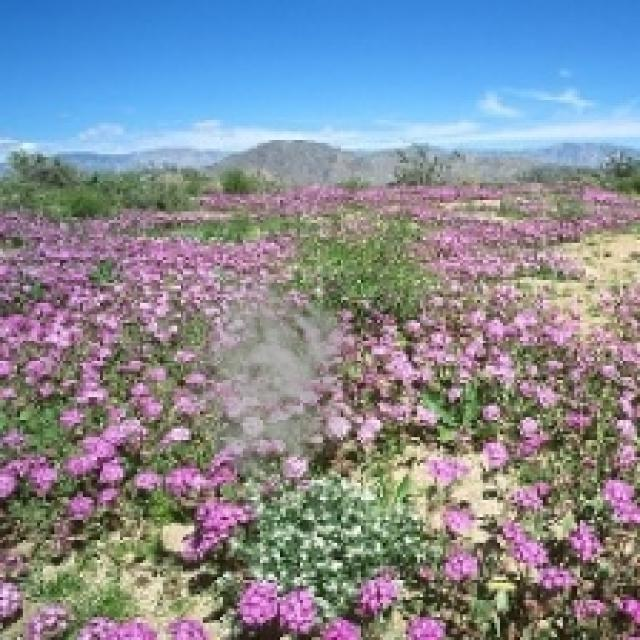Smoke: (174, 262, 383, 494)
